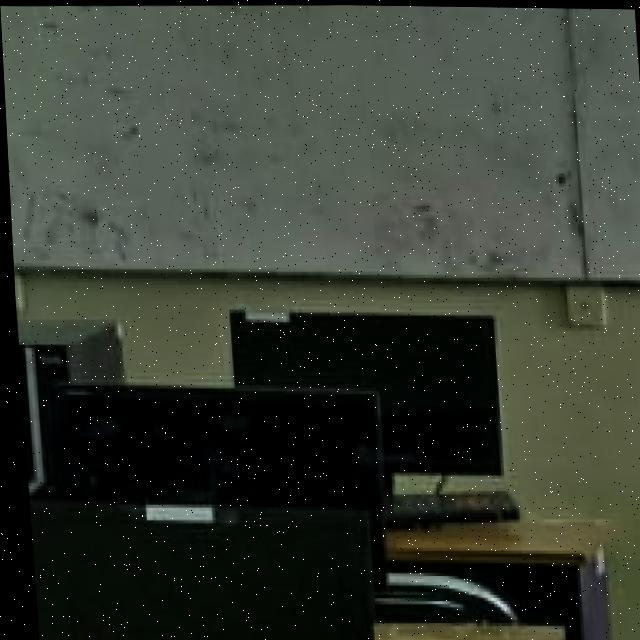offscreen: (228, 314, 495, 471), (57, 387, 369, 515)
